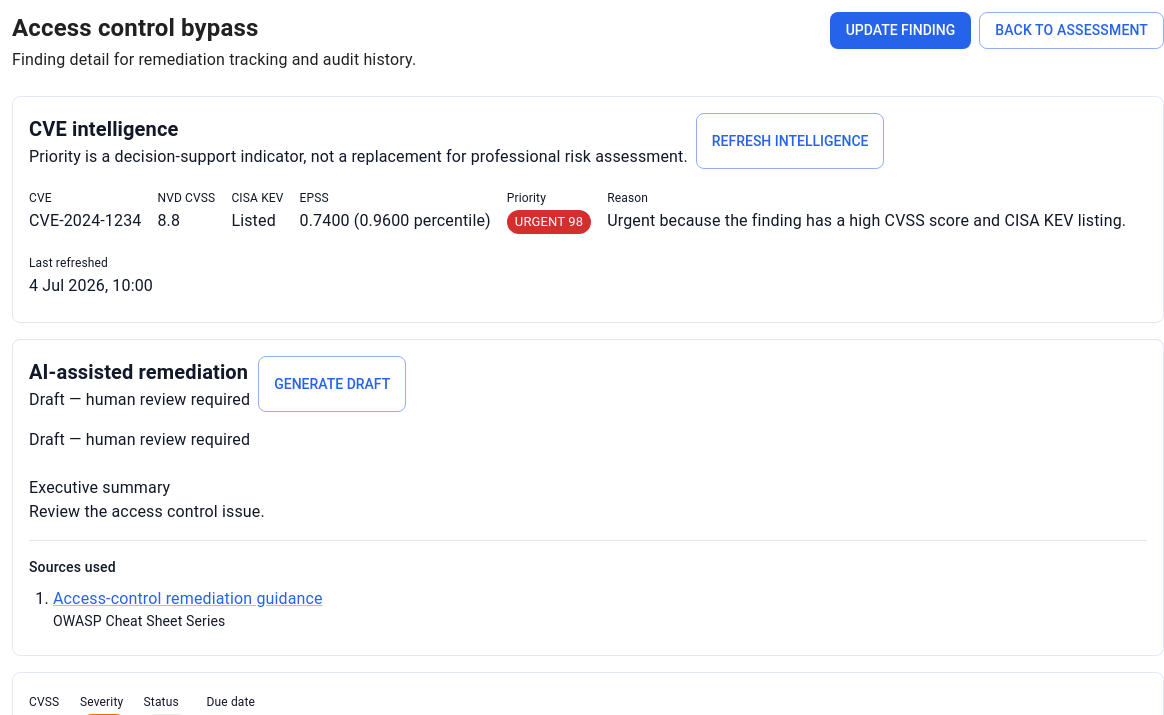
finding detail renders remediation draft sources and generate action
Expected: the heading "AI-assisted remediation" is shown, [29, 356, 250, 388]
Expected: the text "Draft — human review required" is shown, [29, 388, 250, 412]
Click the button "Generate draft" at (332, 384), box [258, 356, 406, 412]
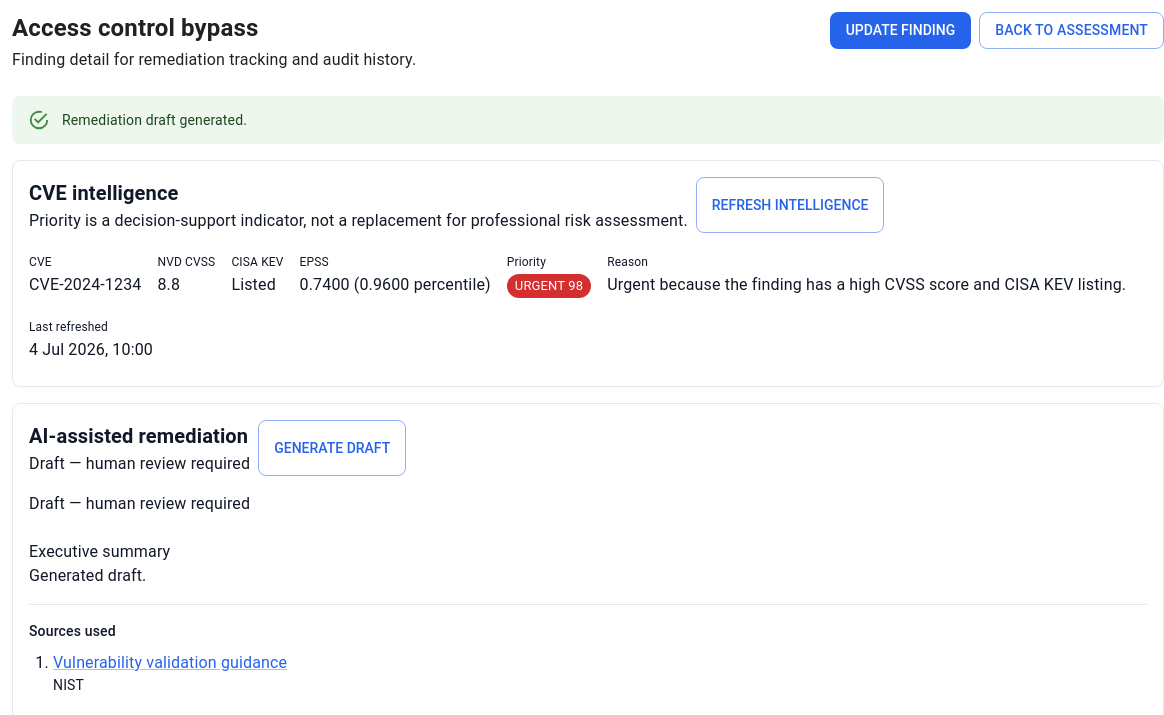
Expected: the text "Remediation draft generated." is shown, [62, 112, 247, 128]
Expected: the link "Vulnerability validation guidance" is shown, [53, 653, 287, 672]
